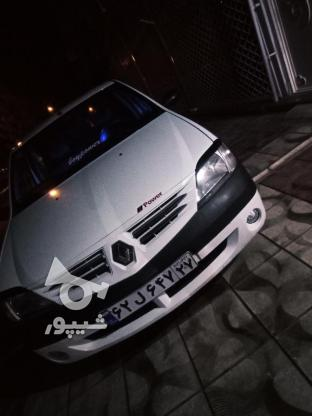car: (106, 244, 197, 324)
